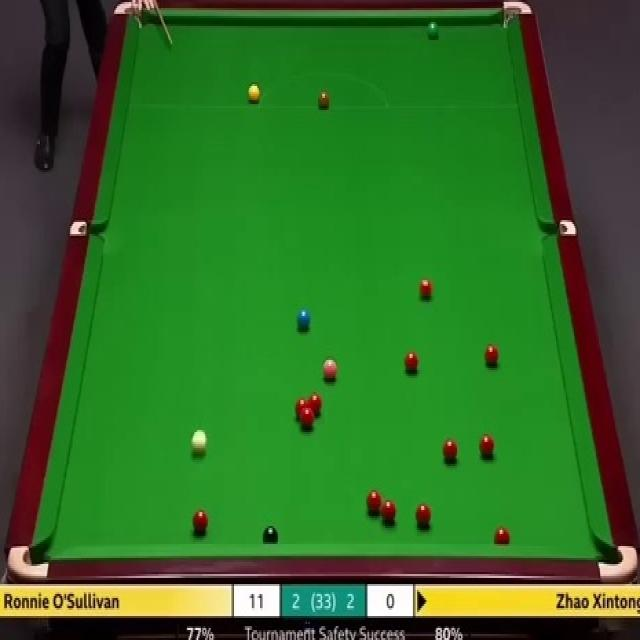black-ball: (262, 525, 280, 546)
blue-ball: (296, 308, 312, 329)
brown-ball: (318, 88, 330, 108)
green-ball: (426, 22, 439, 40)
pink-ball: (322, 359, 339, 384)
red-ball: (482, 341, 501, 367), (441, 438, 458, 466), (381, 497, 397, 526), (191, 508, 208, 535), (415, 504, 432, 530), (418, 278, 436, 302), (404, 349, 420, 375), (366, 490, 382, 516), (479, 434, 496, 458), (294, 398, 308, 422), (309, 393, 322, 418), (493, 526, 511, 543), (300, 411, 316, 430)
white-ball: (189, 427, 205, 456)
yellow-ball: (247, 86, 259, 102)
